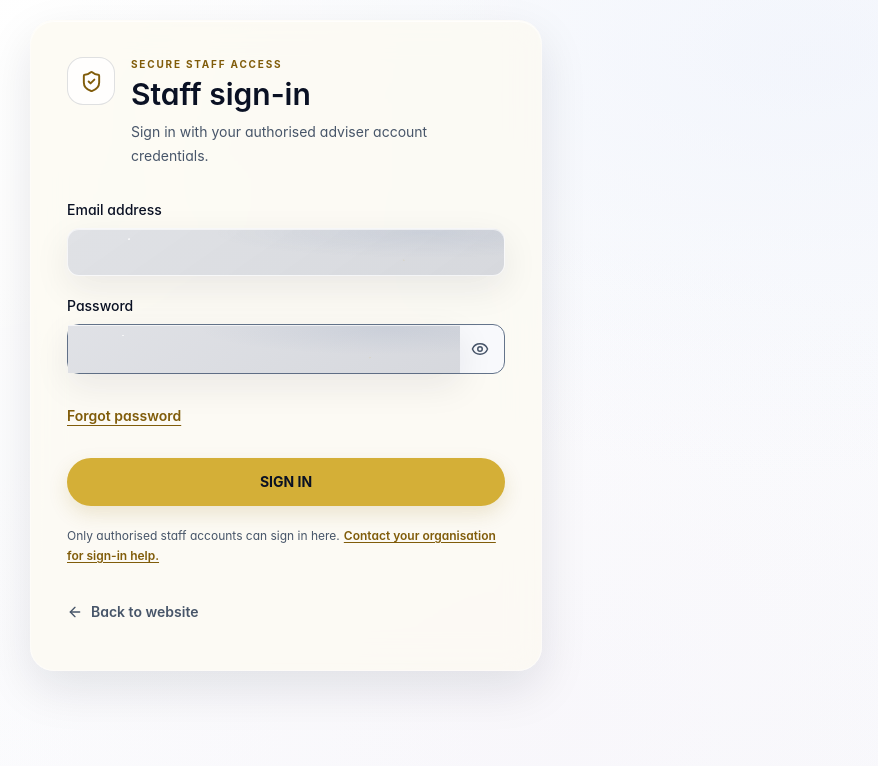
it: AdvisorLoginForm › signs out clients and explains that staff sign-in is only for staff
The width and height of the screenshot is (878, 766).
Type "client@example.com" into the field labelled "Email address" at (286, 252), box [67,228,505,276]
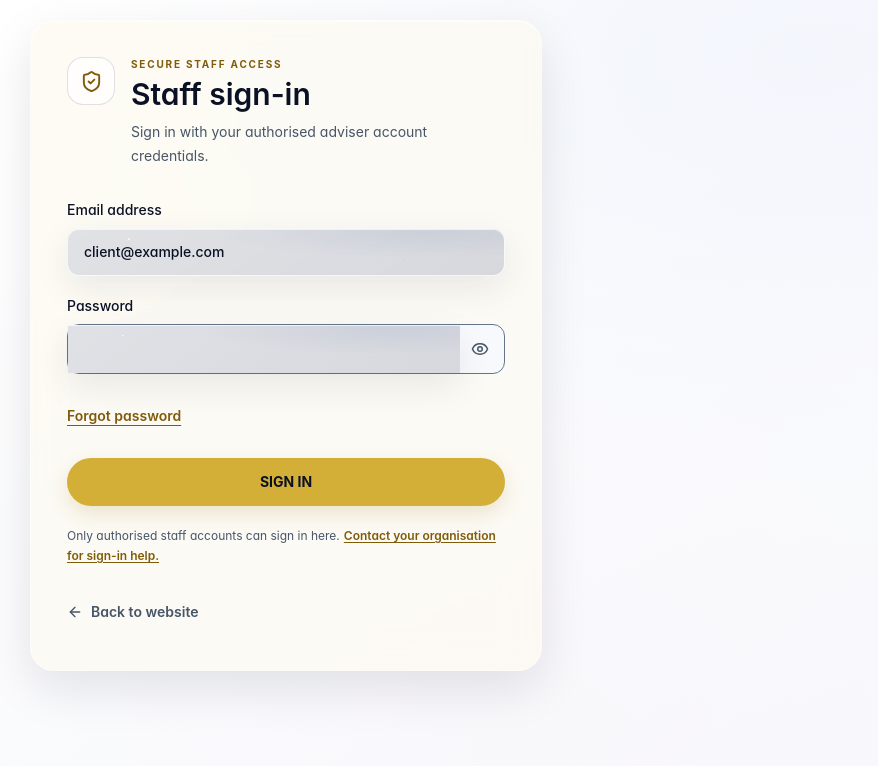
Type "client-password" into the password field labelled "Password" at (264, 349), box [68,325,460,373]
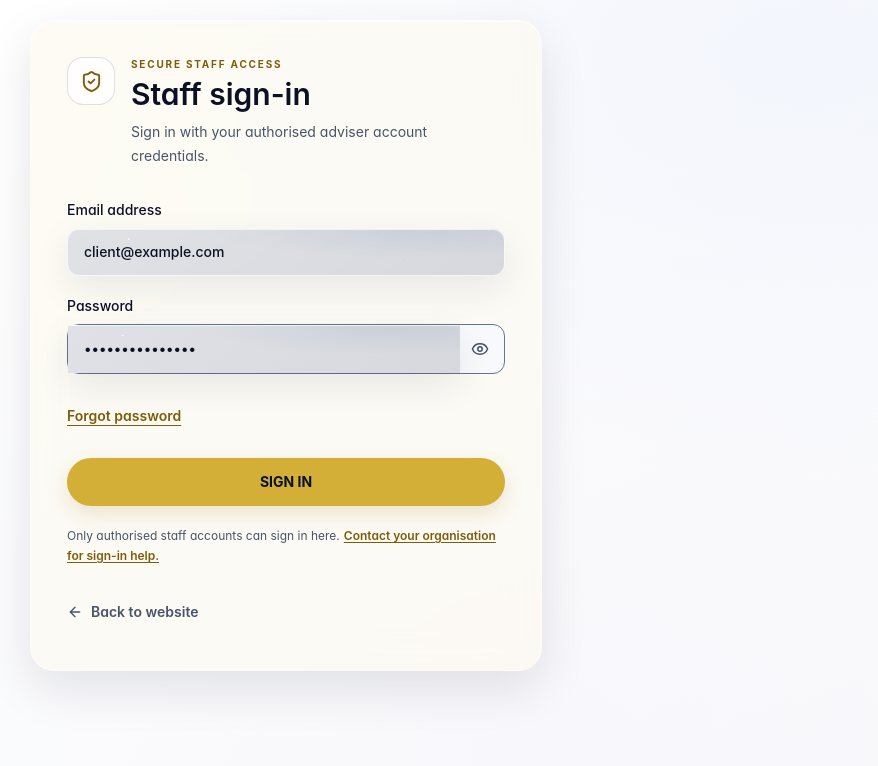
Click the button "SIGN IN" at (286, 482), box [67,458,505,506]
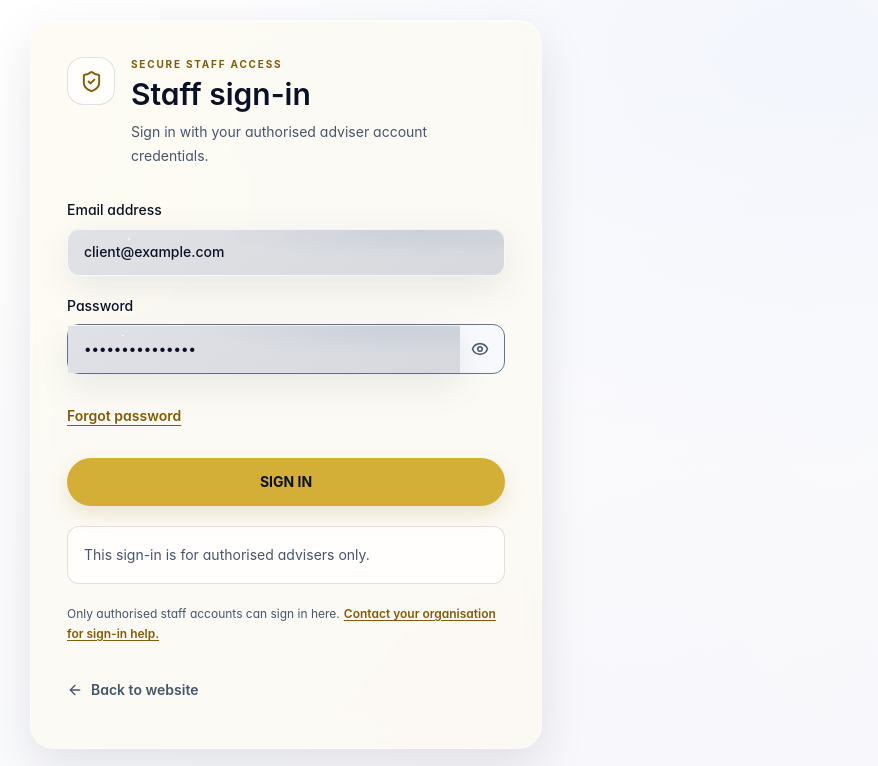
Expected: the message reads "This sign-in is for authorised advisers only.", [84,546,370,563]
